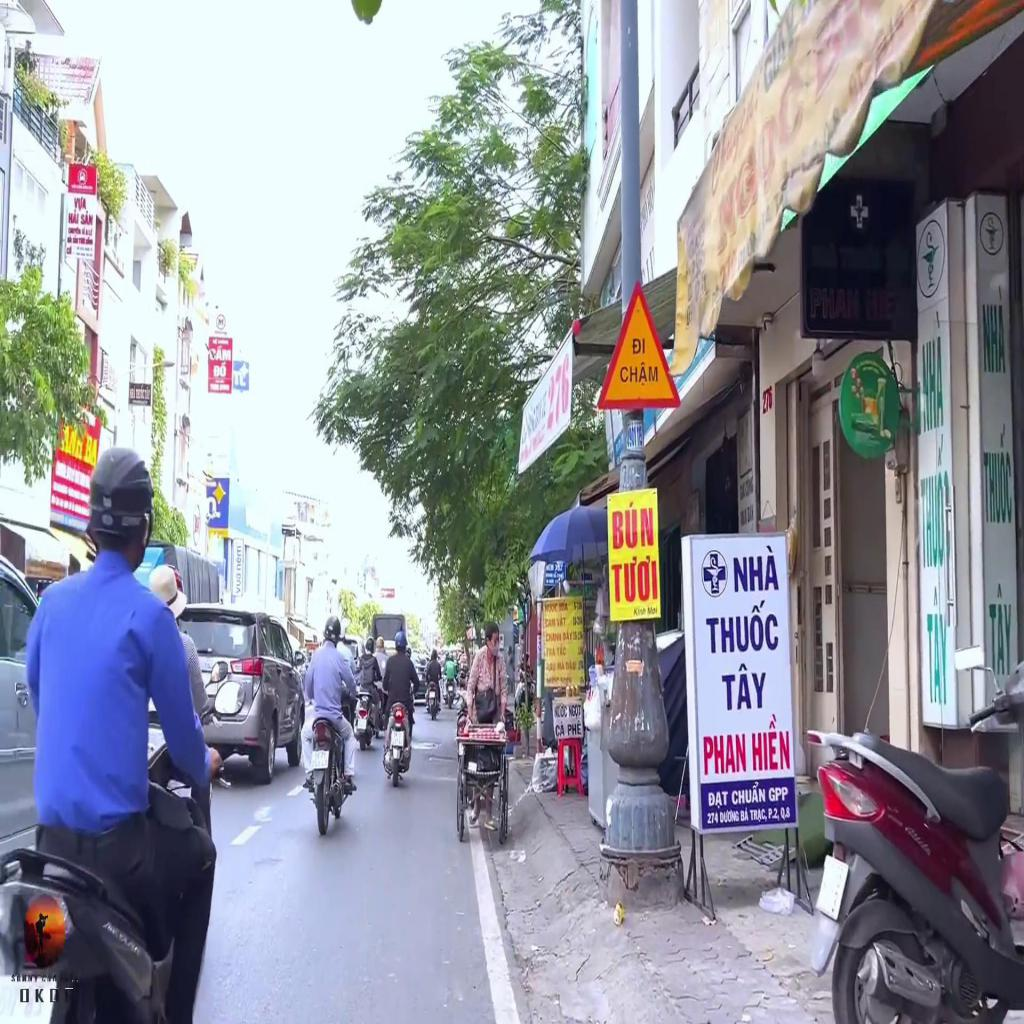di_cham: (595, 278, 681, 410)
